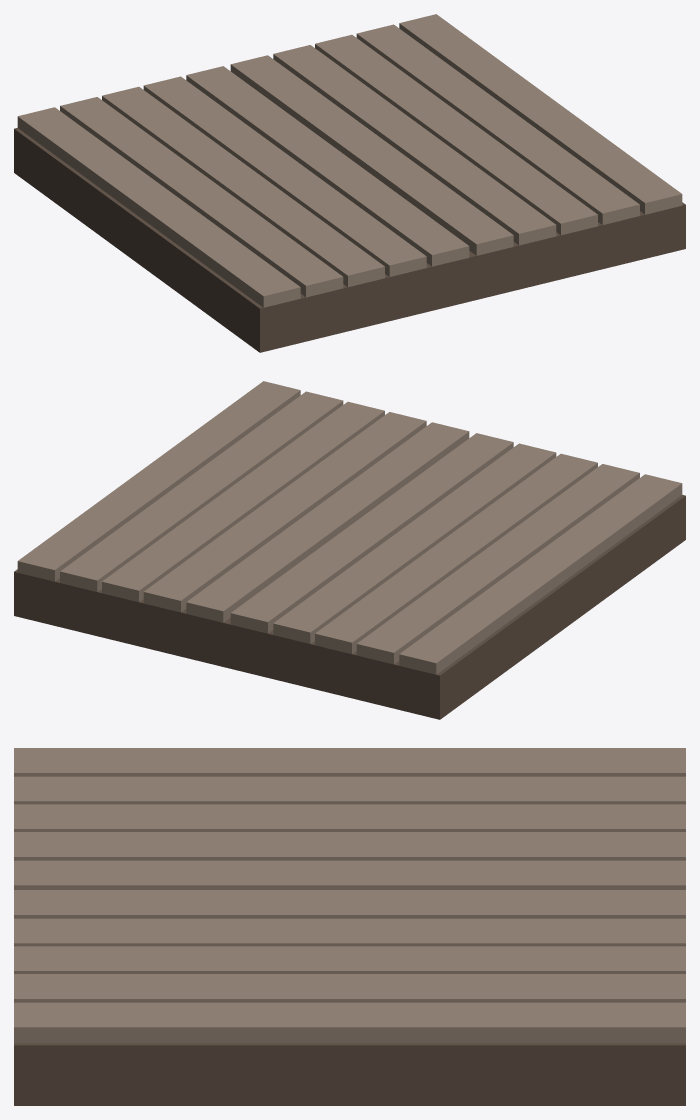
Rendered from Floor2.fbx.
3 views of the same model, one above another, from view 1: azimuth 30°, elevation 25°; view 2: azimuth 150°, elevation 25°; view 3: azimuth 270°, elevation 25° (orthographic). The views are drawn at different scales.
Parts seen in each view (by area): view 1: Floor2; view 2: Floor2; view 3: Floor2.
Part boxes in pixels (bbox=[...]): Floor2: bbox=[14, 14, 685, 352]; Floor2: bbox=[14, 381, 685, 719]; Floor2: bbox=[14, 748, 685, 1105].
Bounding box in the file's own units: 400 × 50 × 400.
